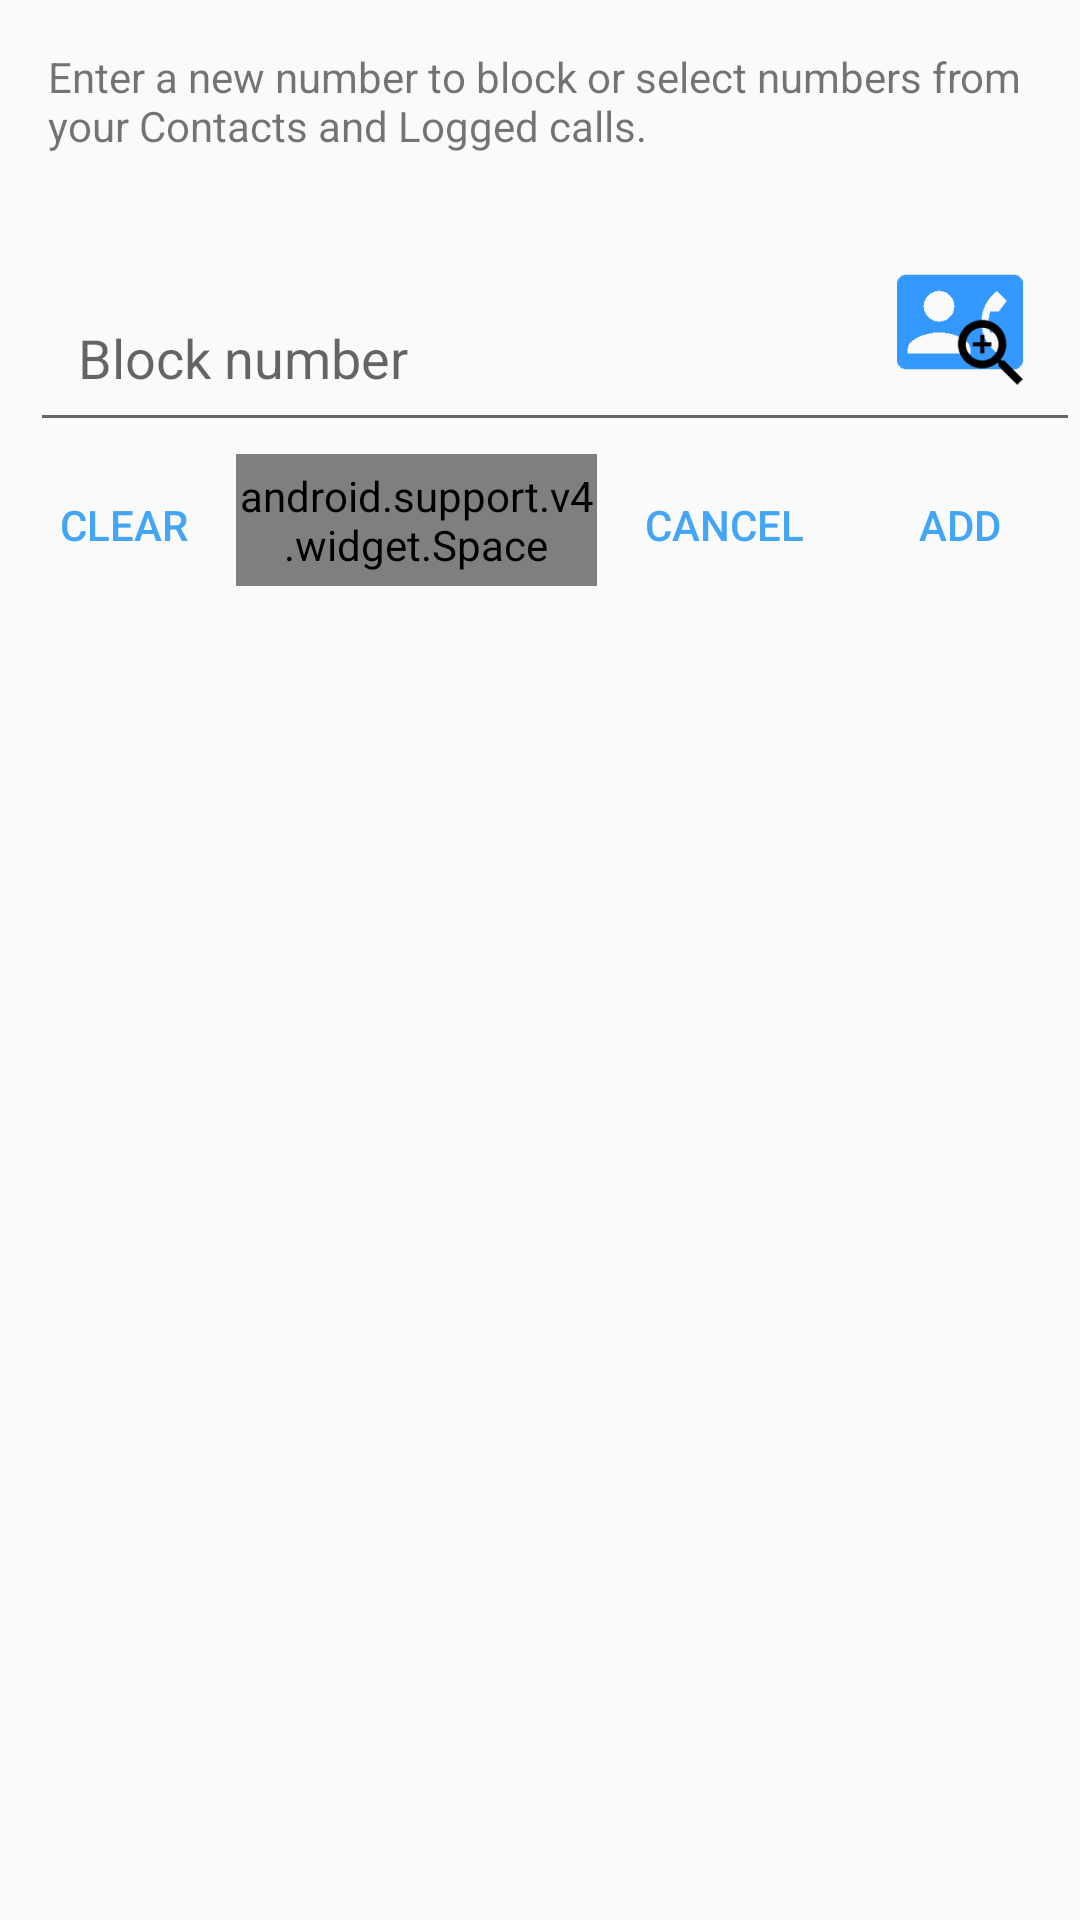

Named icons in this screenshot (1080px x 1920px) and their bounding boxes, (x1, y1, x2, y2):
contact phone: (897, 274, 1023, 385)
